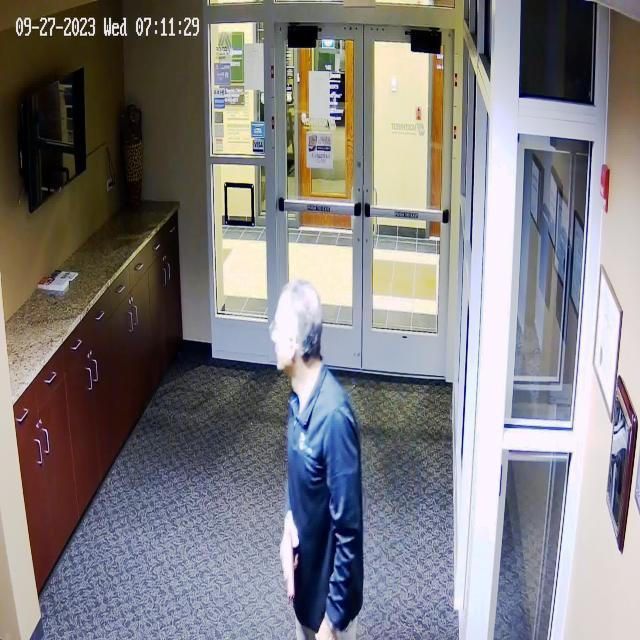Gun: (272, 522, 312, 609)
